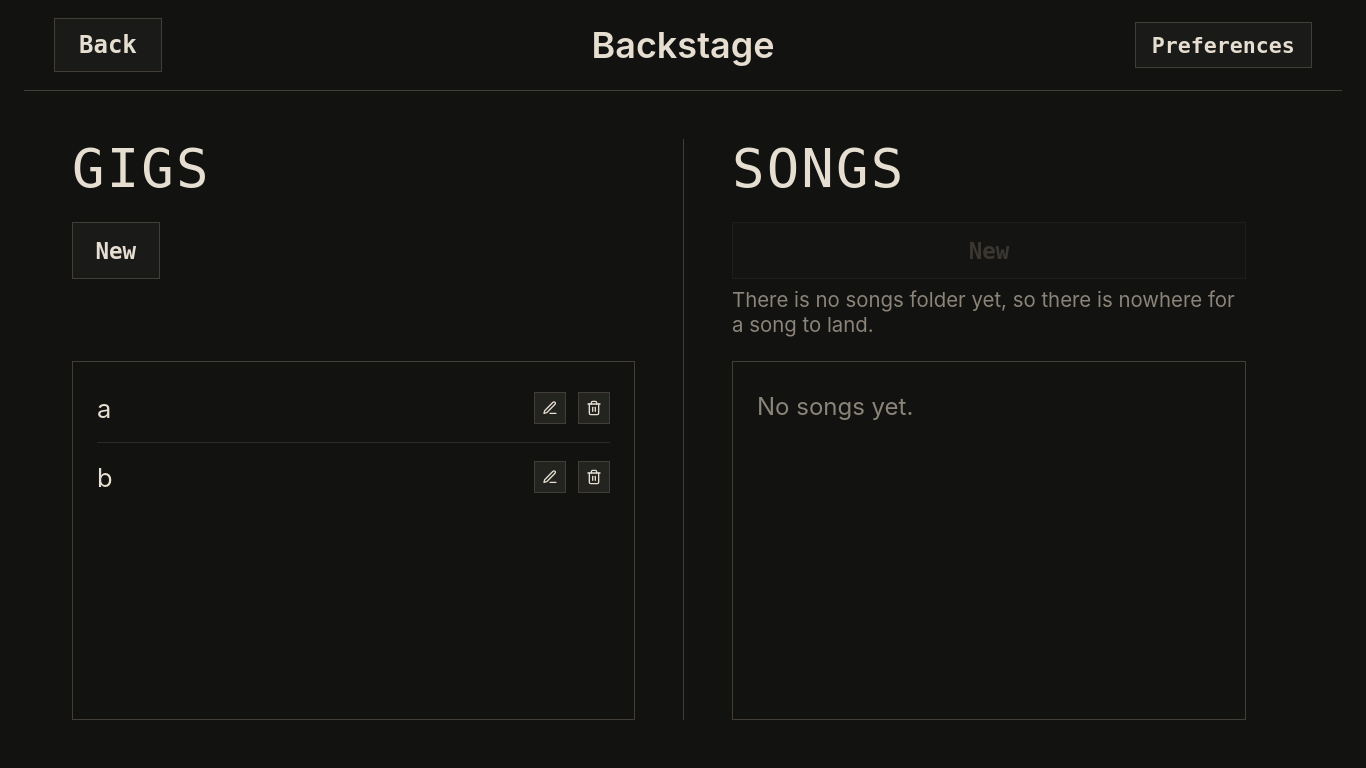
it: Setup home › deletes the gig folder to the Trash, and the row goes with the folder
What coordinates should you click on to do the following:
click the button with test id "setup-gig-delete-a"
I would click on:
 (594, 408)
Its box is [578,392,610,424].
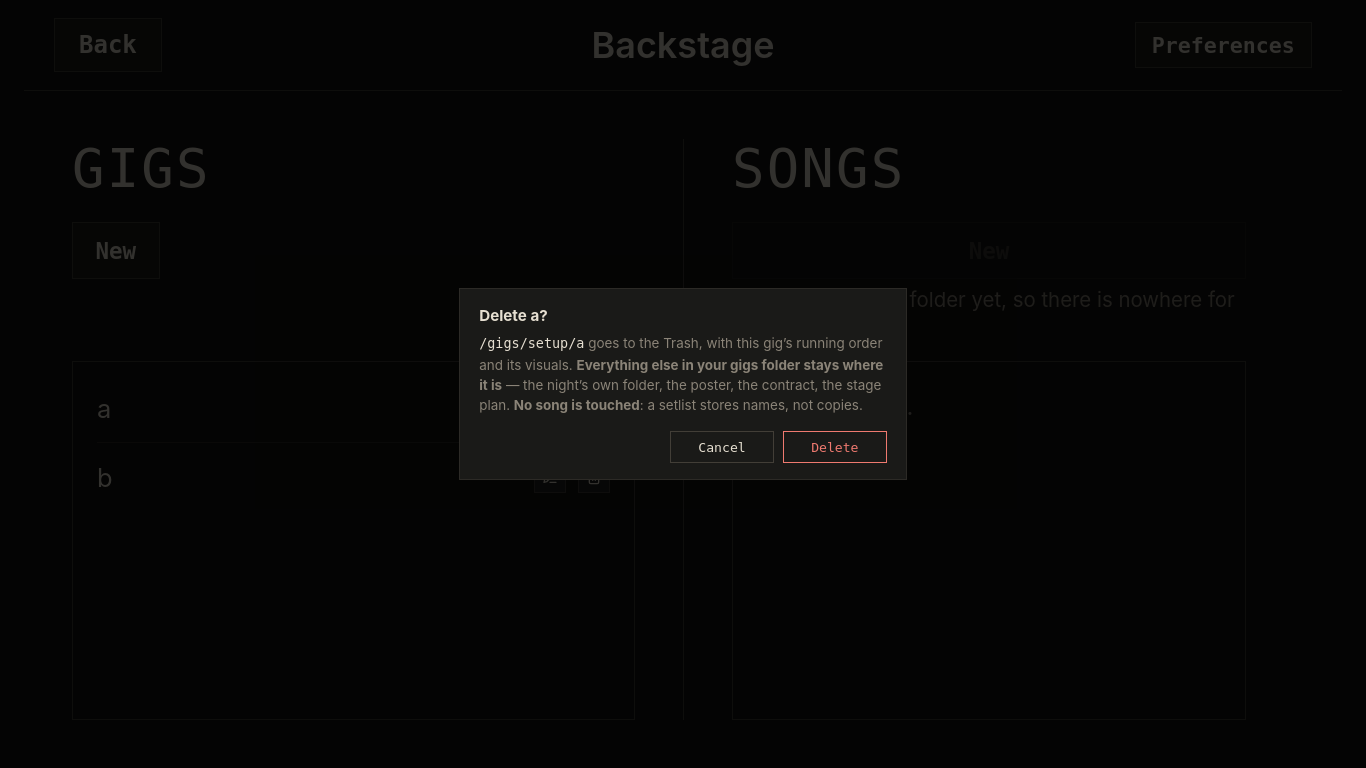
Now the element with test id "setup-gig-delete-popup" is shown
What coordinates should you click on to do the following:
click the button with test id "setup-gig-delete-confirm"
I would click on:
 (835, 447)
Its box is [783,431,887,463].
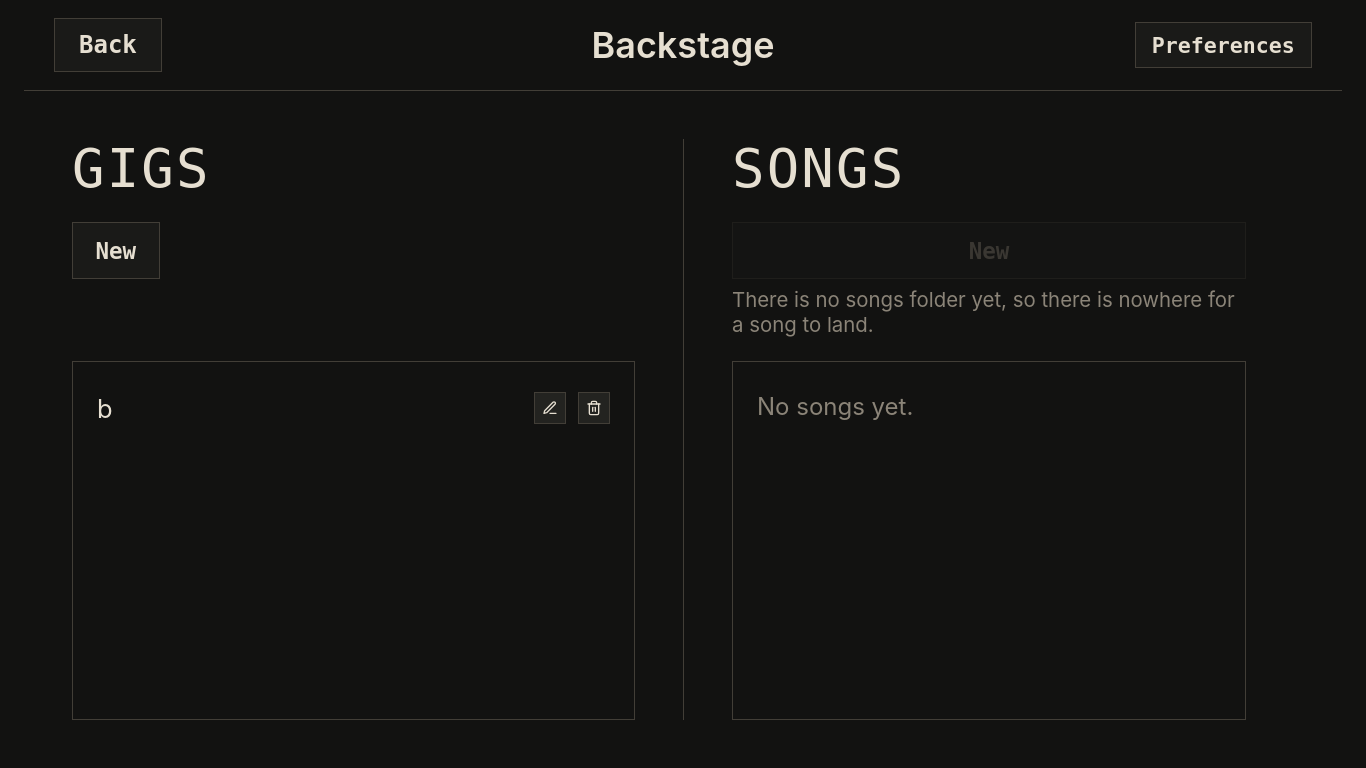
Expected: the list item with test id "setup-gig-row-b" is shown, [97,392,610,424]
Now the list item with test id "setup-gig-row-a" is gone
